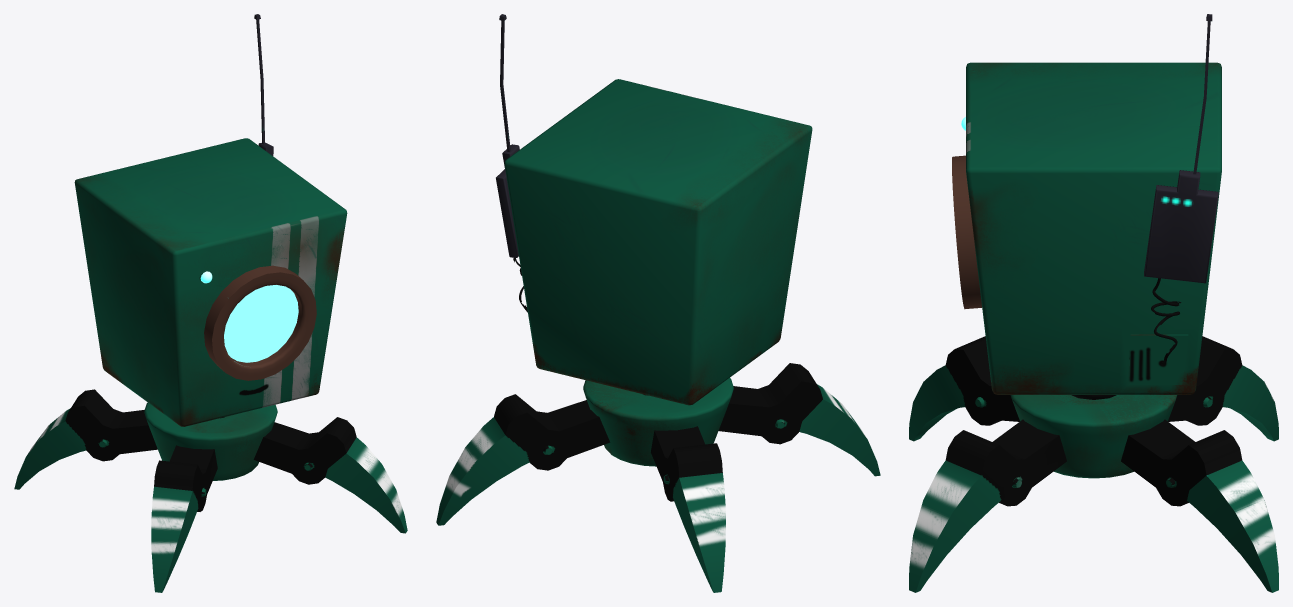
File: lilbot.fbx
3 renders of one model, left to right at view 1: azimuth 30°, elevation 25°; view 2: azimuth 150°, elevation 25°; view 3: azimuth 270°, elevation 25°, orthographic. The views are drawn at different scales.
Visible parts, largest first — view 1: MainL.001; view 2: MainL.001; view 3: MainL.001.
Part boxes in pixels (x1,y1,x2,y2): MainL.001: (14,14,407,592); MainL.001: (436,14,880,592); MainL.001: (909,14,1278,592).
Bounding box in the file's own units: 365 × 605 × 365.
